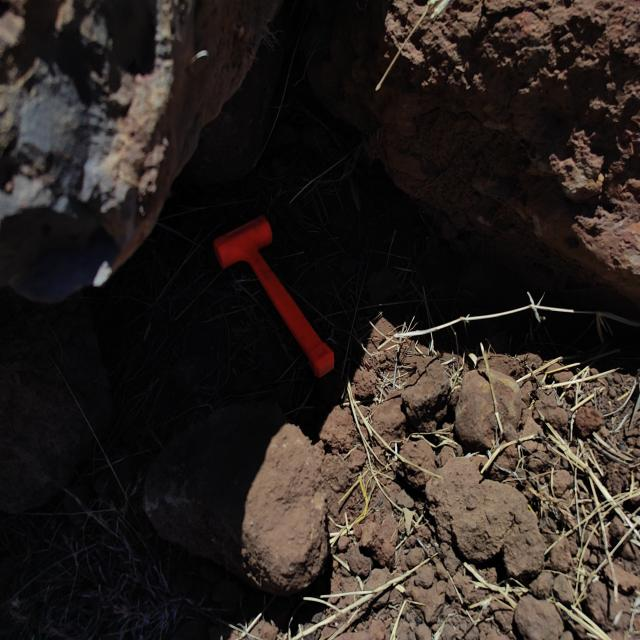Orange_hammer: (212, 214, 335, 378)
